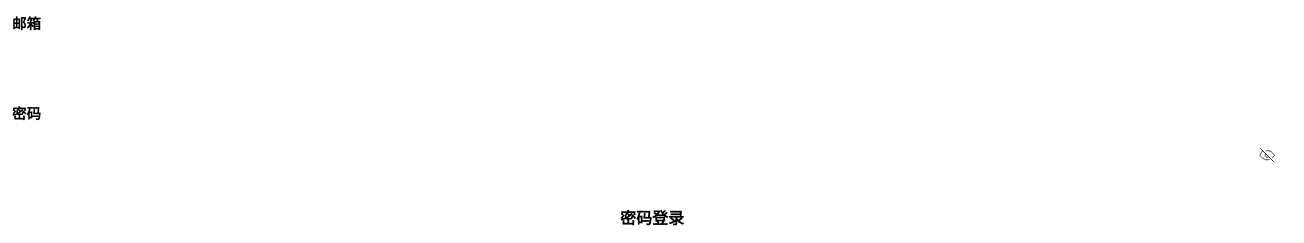
Test case: authentication forms › reveals and re-hides the login password without changing it
Type "12345678" into the password field labelled "密码" at [652, 155], box 12,132 -> 1292,178
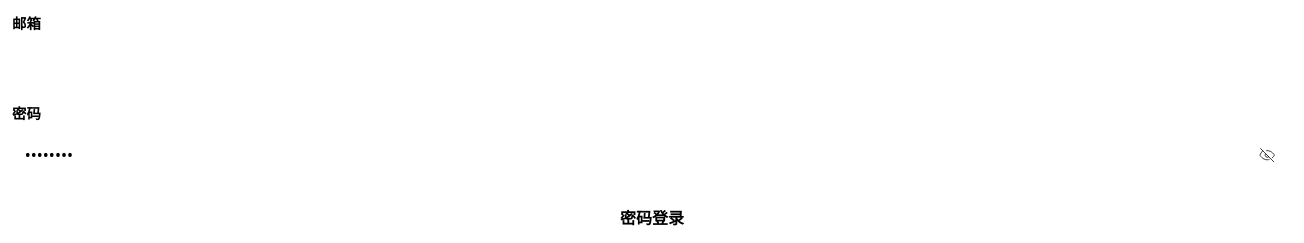
Click the button named "显示密码" at [1267, 155], box 1245,133 -> 1289,177
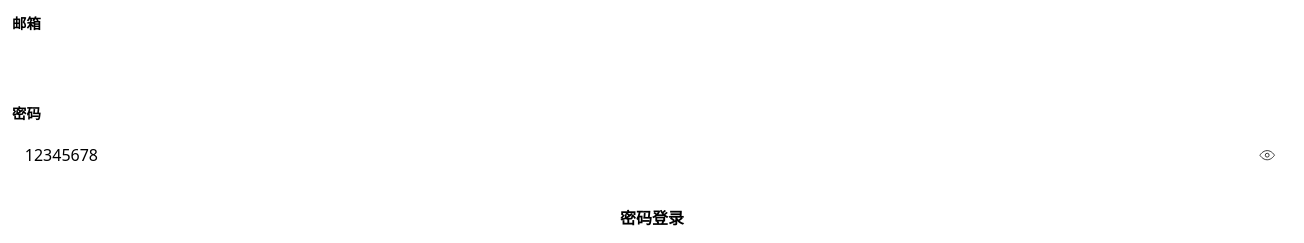
Result: the field labelled "密码" shows its text at 12,132 -> 1292,178
Click the button named "隐藏密码" at [1267, 155], box 1245,133 -> 1289,177
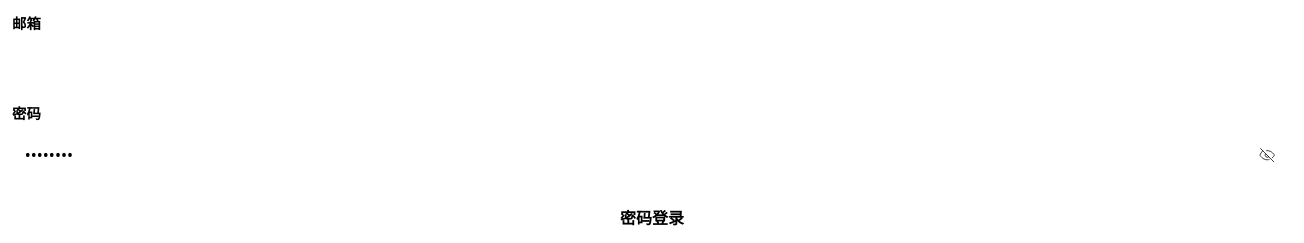
Result: the password field labelled "密码" hides its text at 12,132 -> 1292,178
